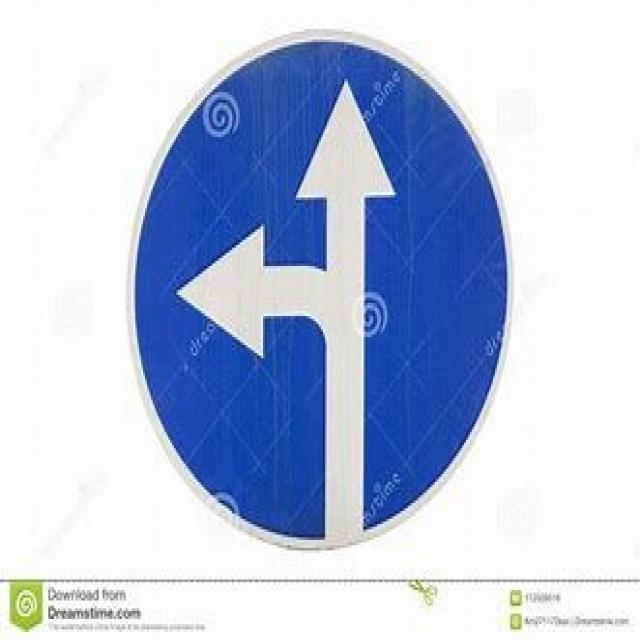COMPULSARY_AHEAD_OR_TURN_LEFT: (122, 24, 514, 553)
